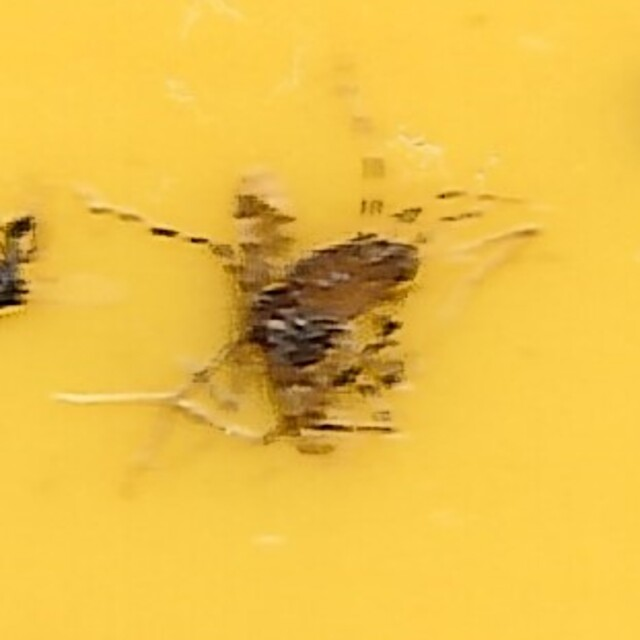Nematocera: (206, 184, 434, 456)
